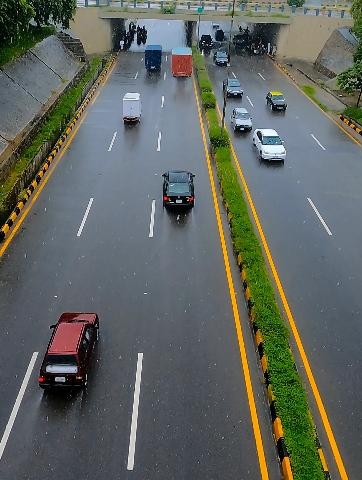car: (44, 308, 106, 401), (163, 172, 198, 215), (254, 128, 289, 165), (267, 86, 291, 114), (222, 76, 247, 102), (233, 105, 254, 135), (212, 50, 233, 66), (201, 32, 216, 48), (216, 28, 227, 41)
motorcycle: (249, 41, 260, 55)
truck: (173, 47, 196, 80), (123, 92, 144, 128), (144, 44, 166, 75)
